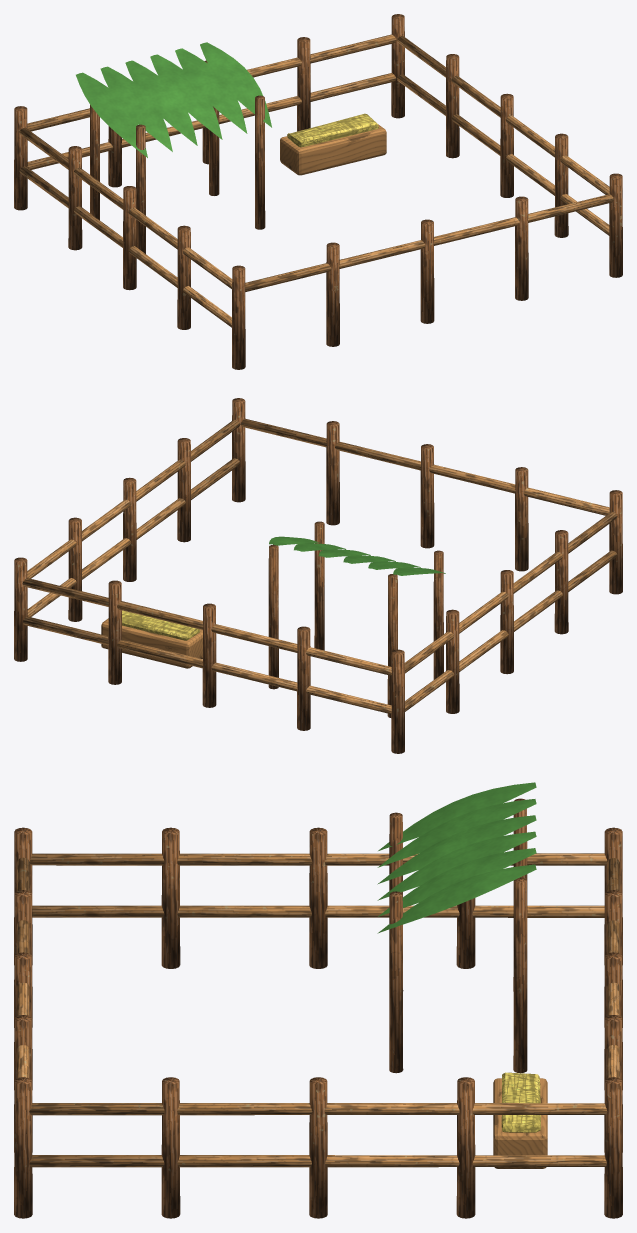
File: goat_pen.glb
The picture shows the model from 3 angles, top to bottom: view 1: azimuth 30°, elevation 25°; view 2: azimuth 150°, elevation 25°; view 3: azimuth 270°, elevation 25°; orthographic projection. The views are drawn at different scales.
Visible parts, largest first — view 1: GoatPen; view 2: GoatPen; view 3: GoatPen.
Part boxes in pixels (<box>): GoatPen: <box>14,14,622,369</box>; GoatPen: <box>14,398,622,753</box>; GoatPen: <box>14,782,622,1218</box>.
Size of the model in its own units: 3.92 by 1.42 by 3.92.
Materials: 1 (1 with a texture image).
